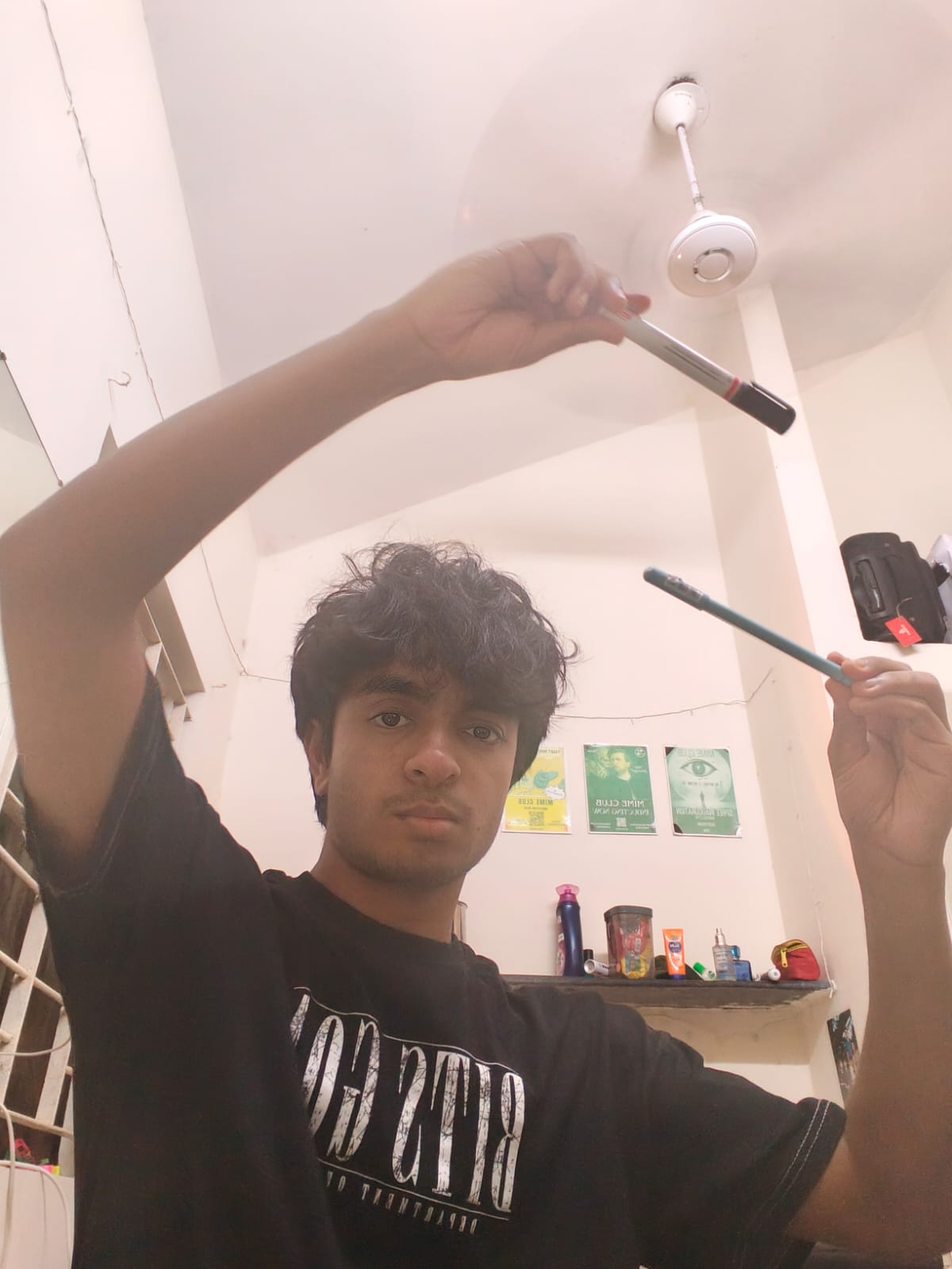case: (612, 301, 820, 457)
pen: (632, 557, 856, 699)
